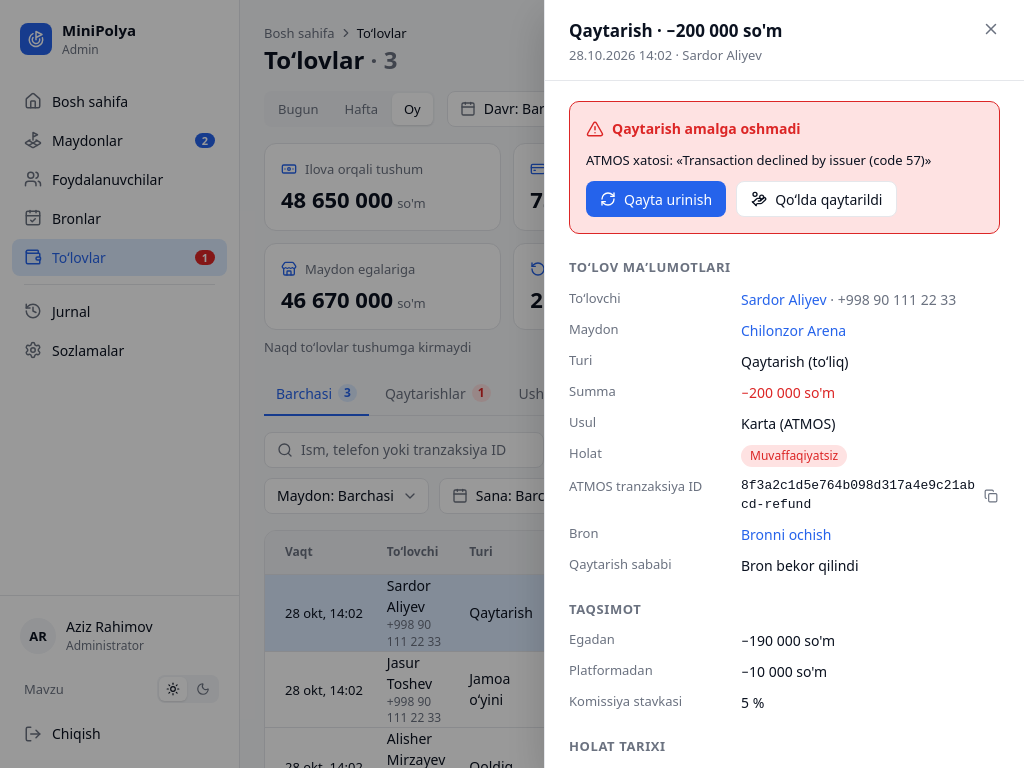
it: Toʻlovlar › says when ATMOS cannot be reached on a retry
Click the button "Qayta urinish" at (656, 200), box [586,182,726,218]
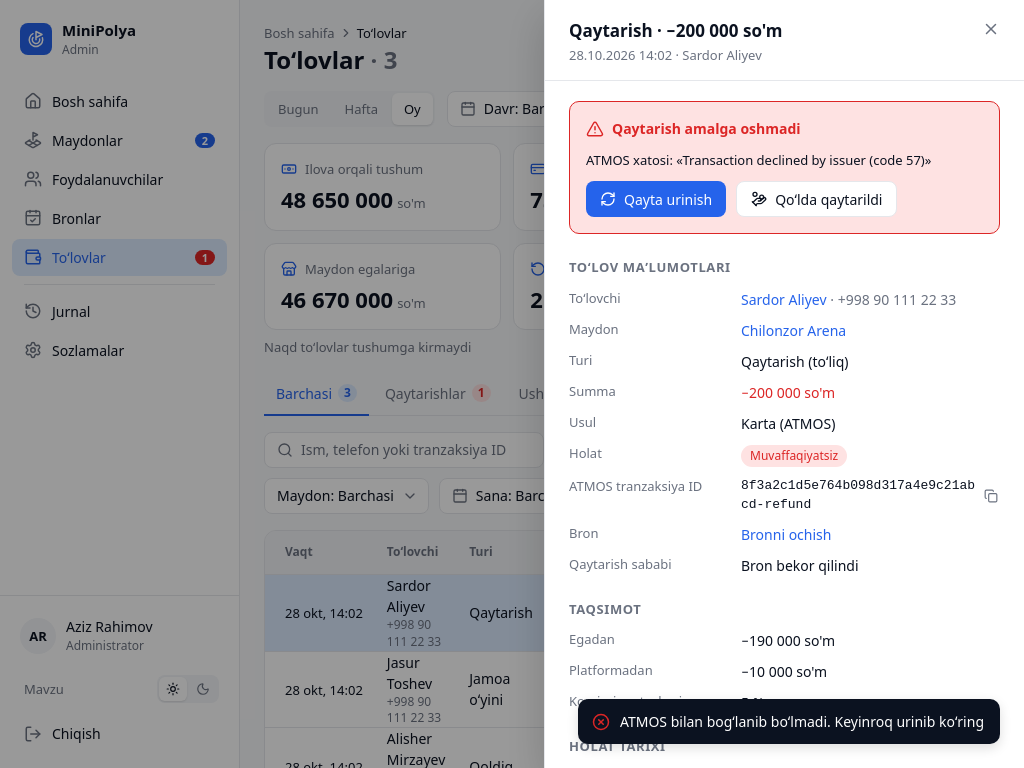
Expected: the text "ATMOS bilan bogʻlanib boʻlmadi. Keyinroq urinib koʻring" is shown, [620,711,984,732]
